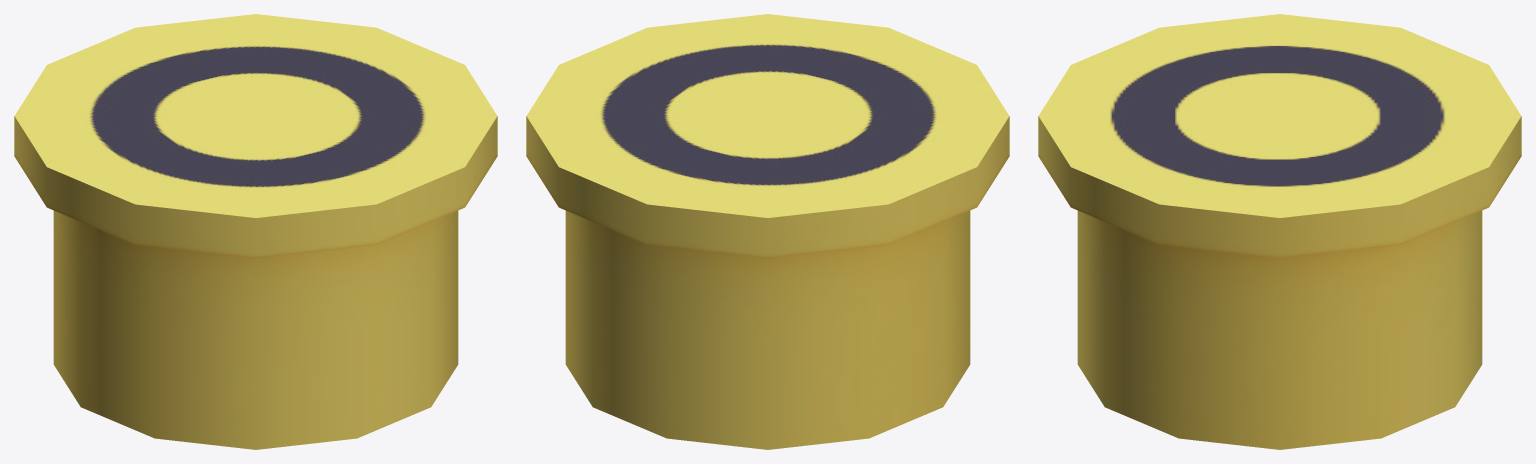
File: Jumper_Model_1.FBX
3 views of the same model, side by side, from view 1: azimuth 30°, elevation 25°; view 2: azimuth 150°, elevation 25°; view 3: azimuth 270°, elevation 25° (orthographic).
Parts seen in each view (by area): view 1: Jumper_Model_1; view 2: Jumper_Model_1; view 3: Jumper_Model_1.
Boxes of the visible parts, x1=… form: Jumper_Model_1: x1=14, y1=14, x2=497, y2=449; Jumper_Model_1: x1=526, y1=14, x2=1009, y2=449; Jumper_Model_1: x1=1038, y1=14, x2=1521, y2=449.
Bounding box in the file's own units: 1.61 × 0.9138 × 1.61.
